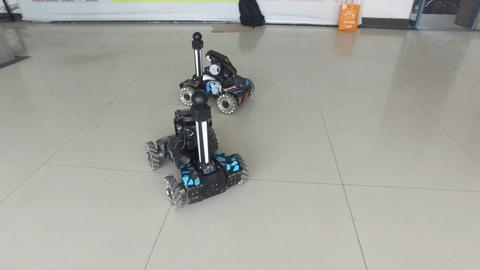chariot: (143, 92, 250, 216), (179, 35, 256, 117)
